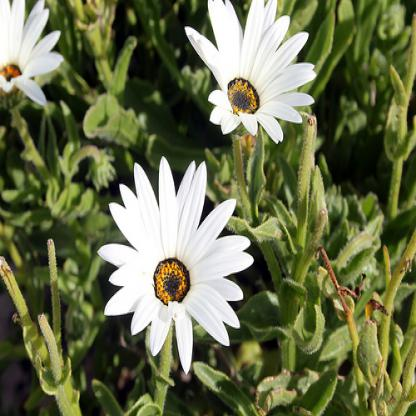ASTER: (8, 8, 371, 391)
